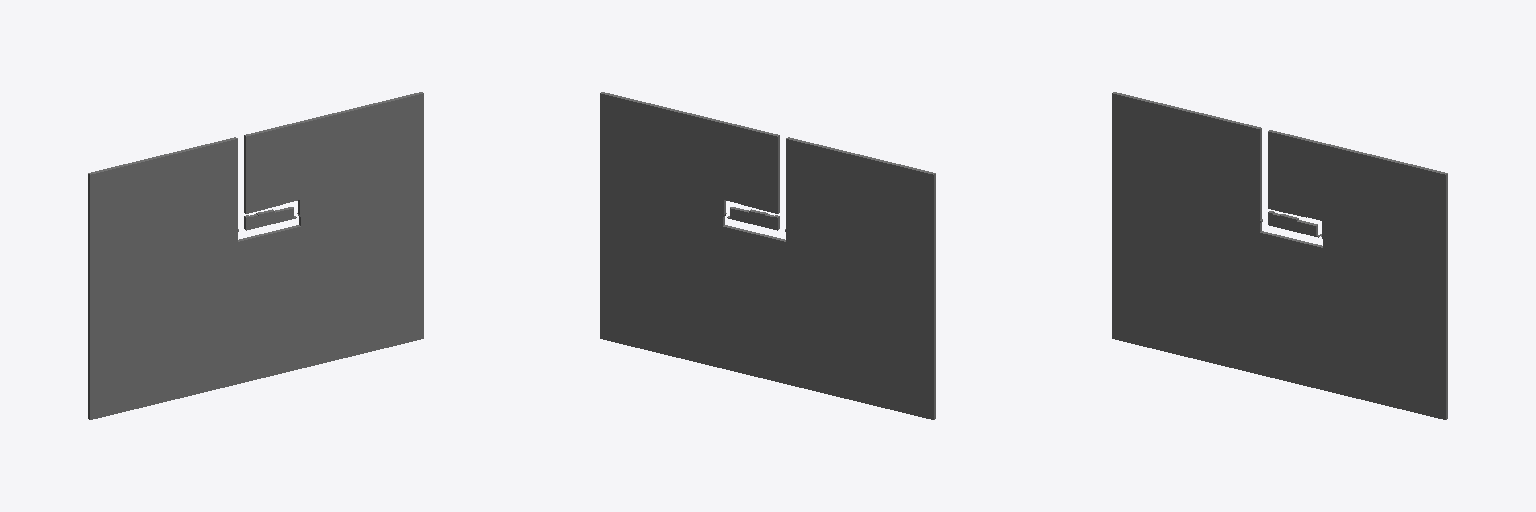
The model's file is environment_3D.obj.
The picture shows the model from 3 angles: view 1: azimuth 30°, elevation 25°; view 2: azimuth 150°, elevation 25°; view 3: azimuth 330°, elevation 25°; orthographic projection.
Visible parts, largest first — view 1: environment:Mesh1, environment:Mesh; view 2: environment:Mesh1, environment:Mesh; view 3: environment:Mesh1, environment:Mesh.
Boxes of the visible parts, x1,y1,x2,y2 form: environment:Mesh1: [88, 92, 423, 419]; environment:Mesh: [244, 207, 296, 230]; environment:Mesh1: [600, 92, 935, 419]; environment:Mesh: [727, 207, 779, 230]; environment:Mesh1: [1112, 92, 1447, 419]; environment:Mesh: [1268, 211, 1320, 237].
Bounding box in the file's own units: 85.9 × 60.38 × 1.